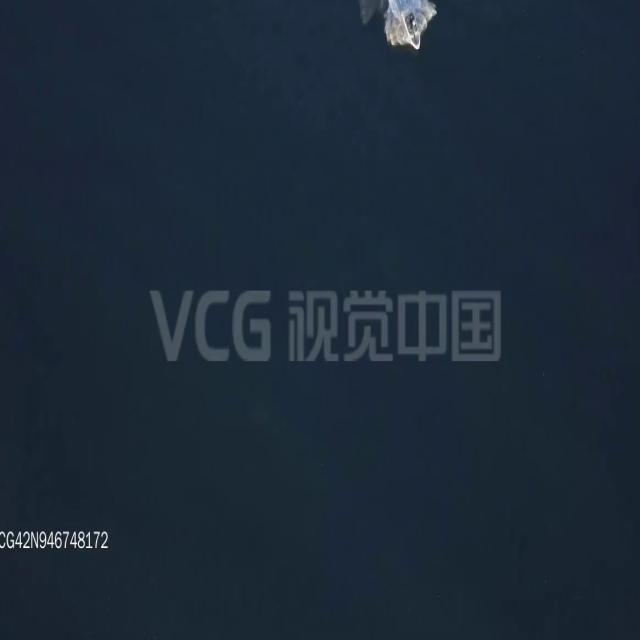houseboat: (400, 3, 422, 51)
